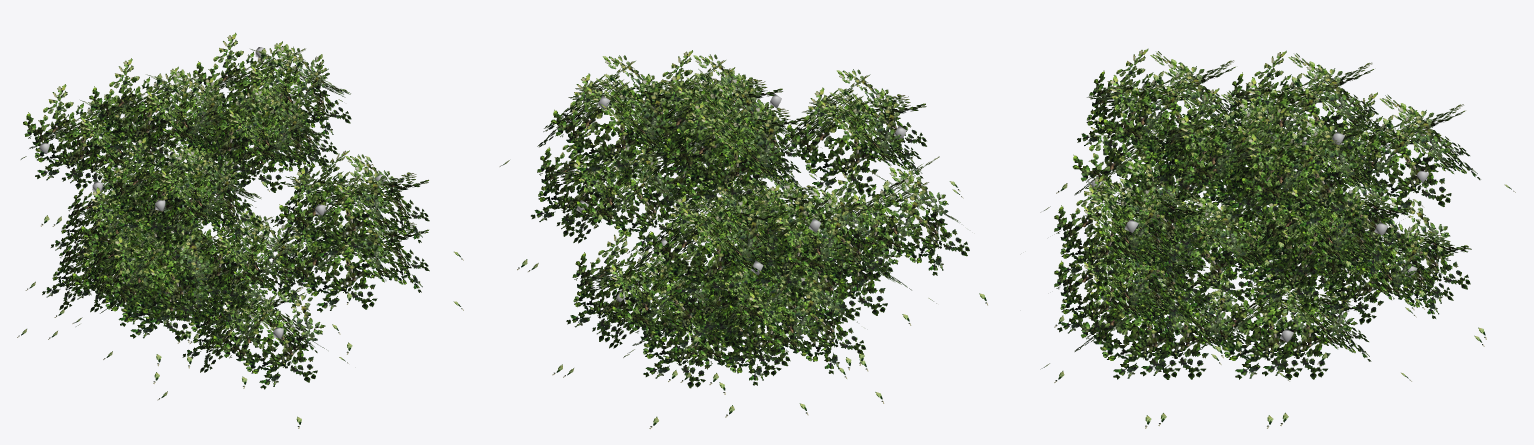
Rendered from tree_apple_top_e.dae.
3 renders of one model, left to right at view 1: azimuth 30°, elevation 25°; view 2: azimuth 150°, elevation 25°; view 3: azimuth 270°, elevation 25°, orthographic. The views are drawn at different scales.
Parts seen in each view (by area): view 1: canopy50-Pivot; view 2: canopy50-Pivot; view 3: canopy50-Pivot.
Boxes of the visible parts, bbox=[...] form: canopy50-Pivot: bbox=[17, 32, 463, 428]; canopy50-Pivot: bbox=[499, 50, 987, 428]; canopy50-Pivot: bbox=[1040, 48, 1515, 428].
Size of the model in its own units: 14.42 by 14.99 by 10.23.
